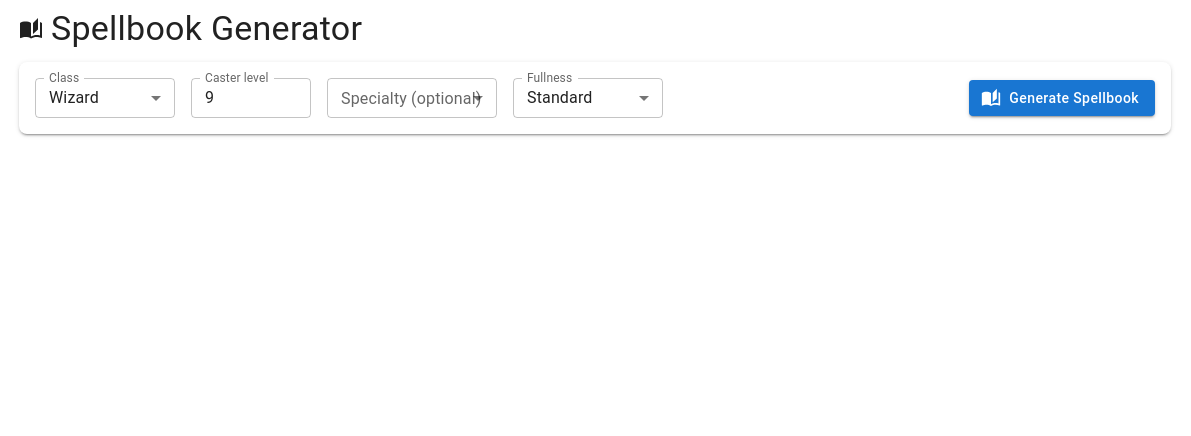
Scenario: SpellbookGenerator › generates a book and lists its spells grouped by level
The image size is (1191, 436).
Click the button "Generate Spellbook" at (1062, 98), box [969, 80, 1155, 116]
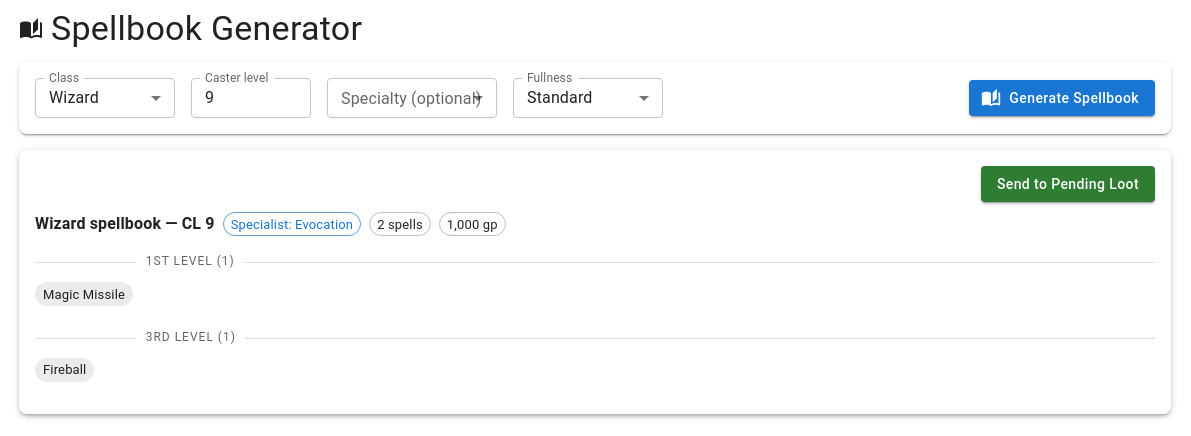
Now the text "Fireball" is shown, box [43, 362, 86, 377]
Now the text "Magic Missile" is shown, box [43, 286, 125, 302]
Now the heading "Wizard spellbook — CL 9" is shown, box [35, 210, 215, 238]
